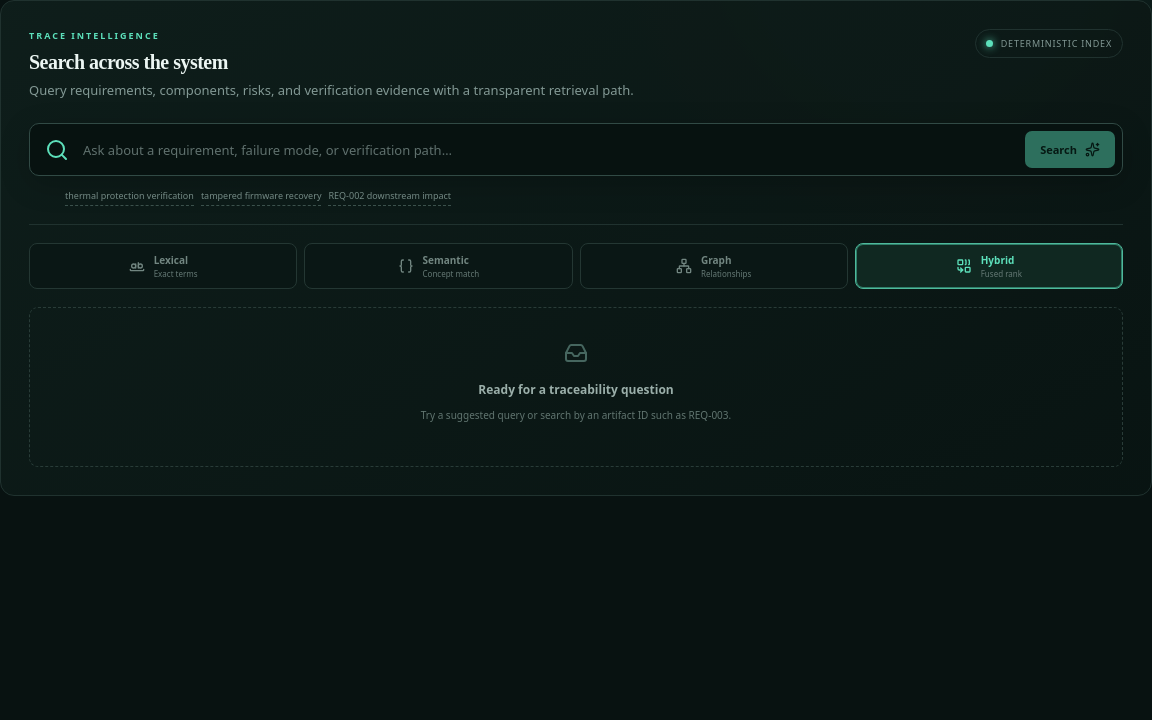
Test case: traceability search › submits the selected mode and explains result scoring
The image size is (1152, 720).
Click the radio button labelled "Semantic Concept match" at (438, 266), box [304, 243, 573, 289]
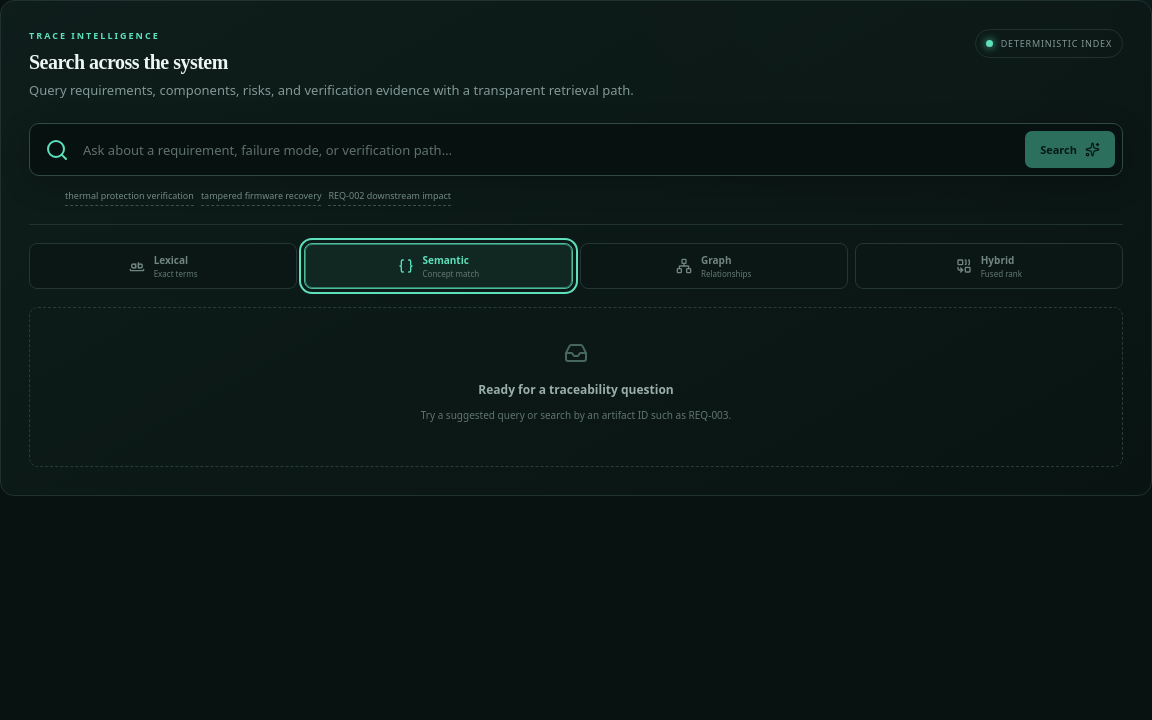
Type "thermal protection" into the field named "Traceability query" at (547, 150), box [81, 140, 1013, 160]
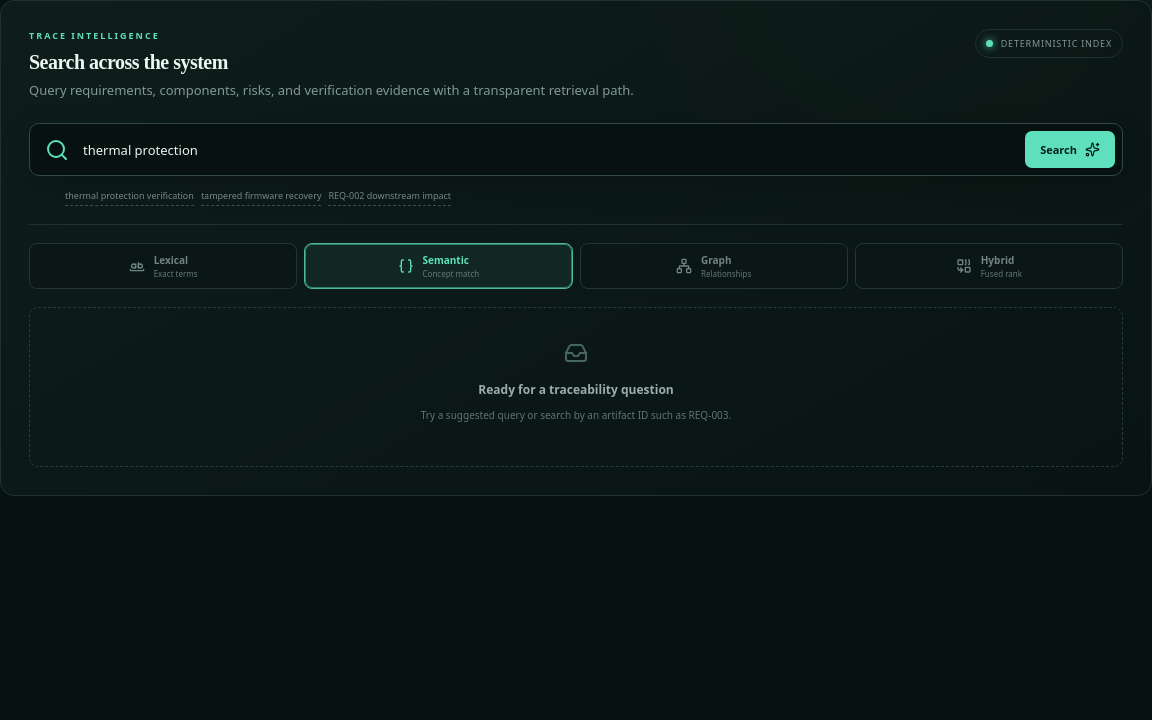
Click the button "Search" at (1070, 150), box [1025, 131, 1115, 168]
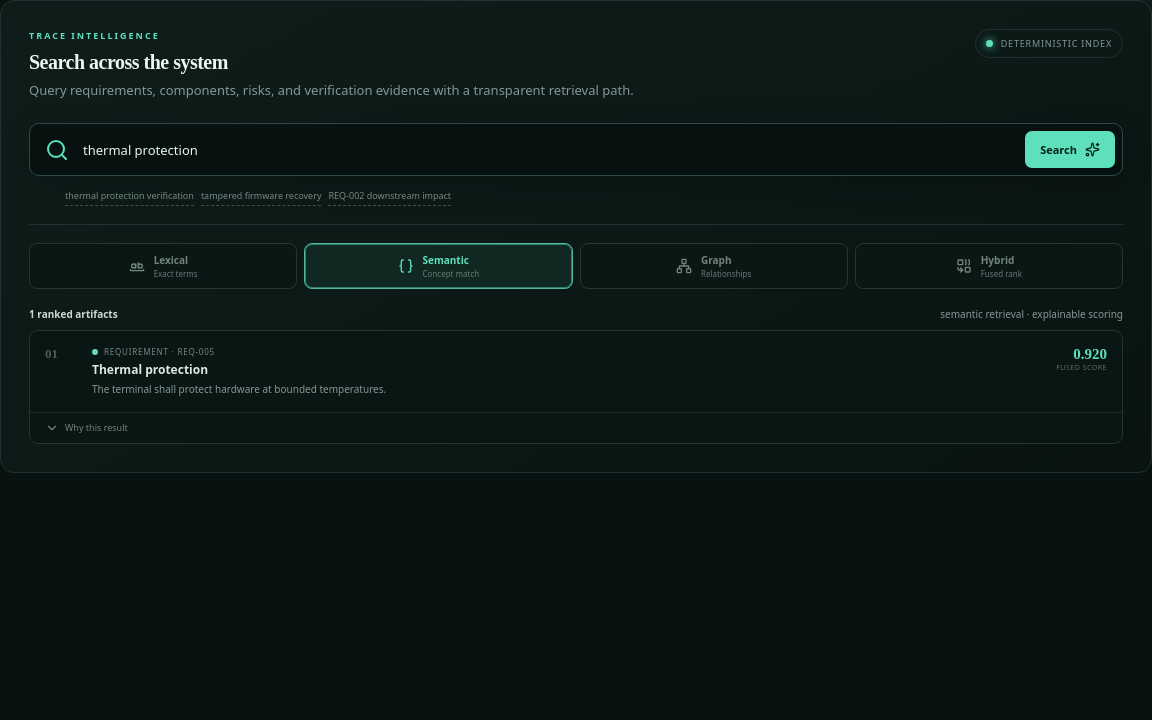
Now the text "Thermal protection" is shown, box [92, 361, 208, 378]
Click the heading "Why this result" at (86, 428), box [45, 421, 128, 435]
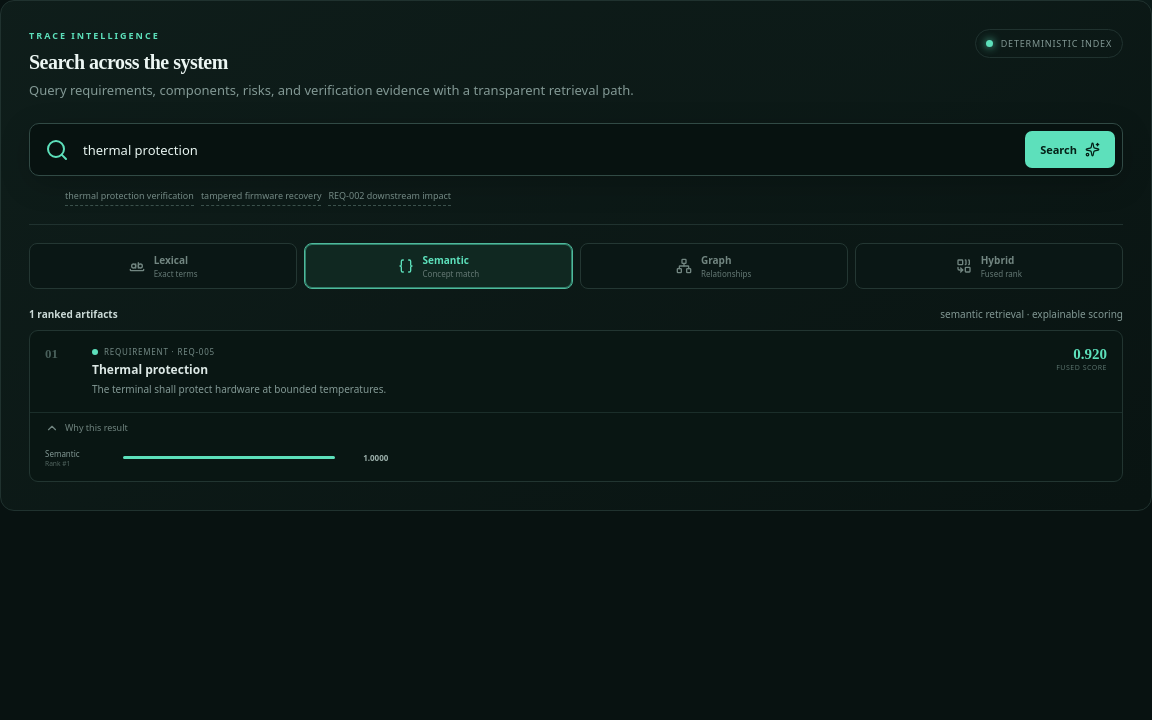
Now the text "rank #1" is shown, box [45, 459, 70, 468]
